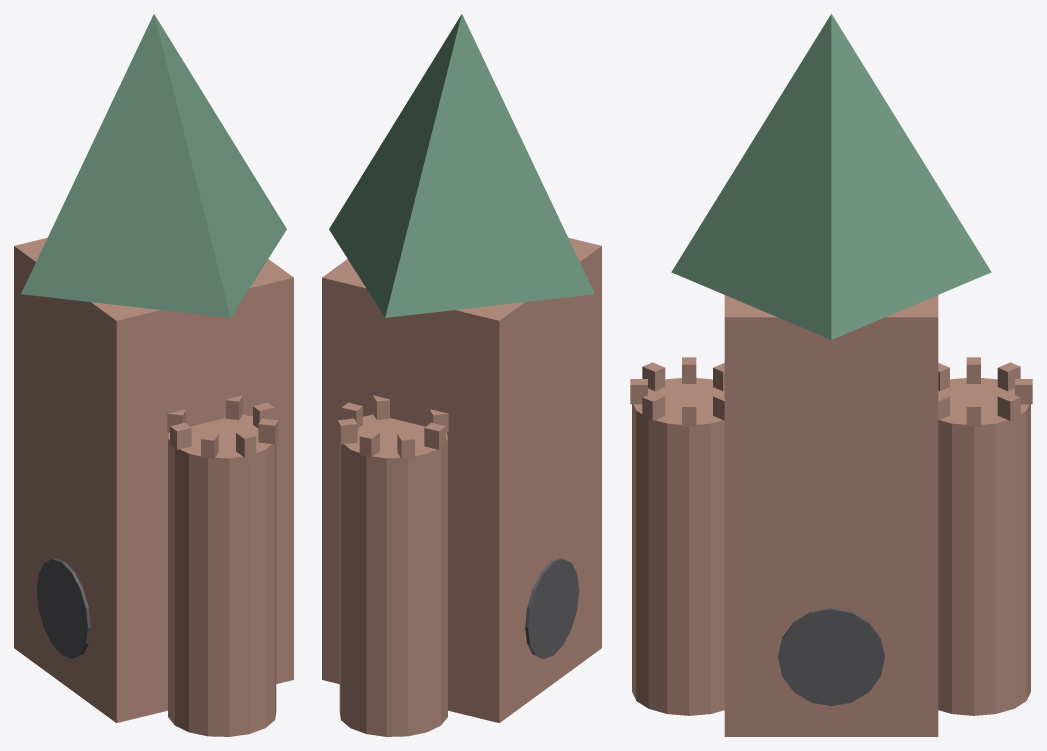
The model's file is landmark-basel-spalentor.bb6f6f6ebc.glb.
3 renders of one model, left to right at view 1: azimuth 30°, elevation 25°; view 2: azimuth 150°, elevation 25°; view 3: azimuth 270°, elevation 25°, orthographic. The views are drawn at different scales.
Visible parts, largest first — view 1: building; view 2: building; view 3: building.
Part boxes in pixels (x1=…): building: x1=14, y1=14, x2=293, y2=736; building: x1=322, y1=14, x2=601, y2=736; building: x1=630, y1=14, x2=1032, y2=736.
Bounding box in the file's own units: 18 × 42 × 22.6.
